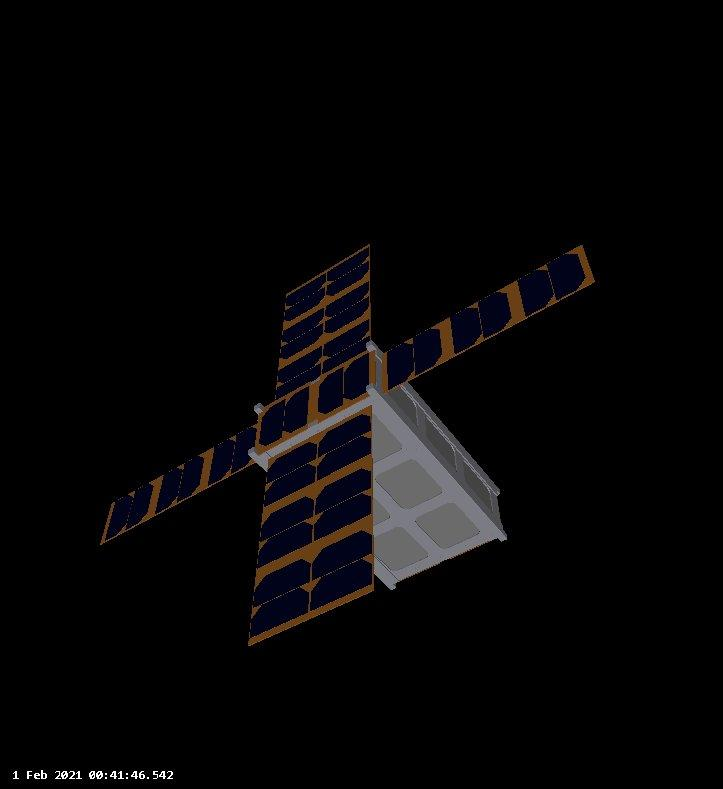body: (246, 338, 511, 592)
solar: (380, 242, 598, 395), (246, 408, 374, 648), (97, 420, 258, 548), (273, 242, 372, 403), (314, 351, 372, 417), (255, 384, 313, 450)
